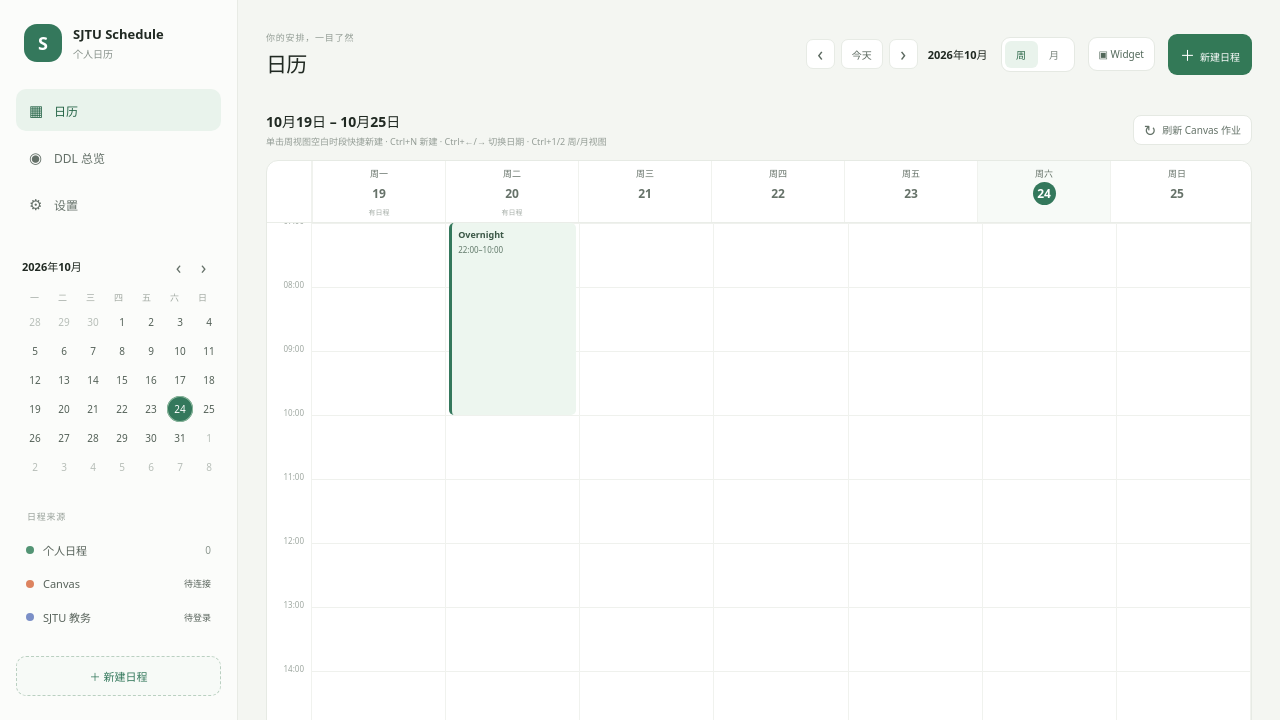
Test: calendar window › shows overnight events on both days in week and month views
This screenshot has width=1280, height=720.
Click the button "月": (1054, 54) [1038,40,1070,68]
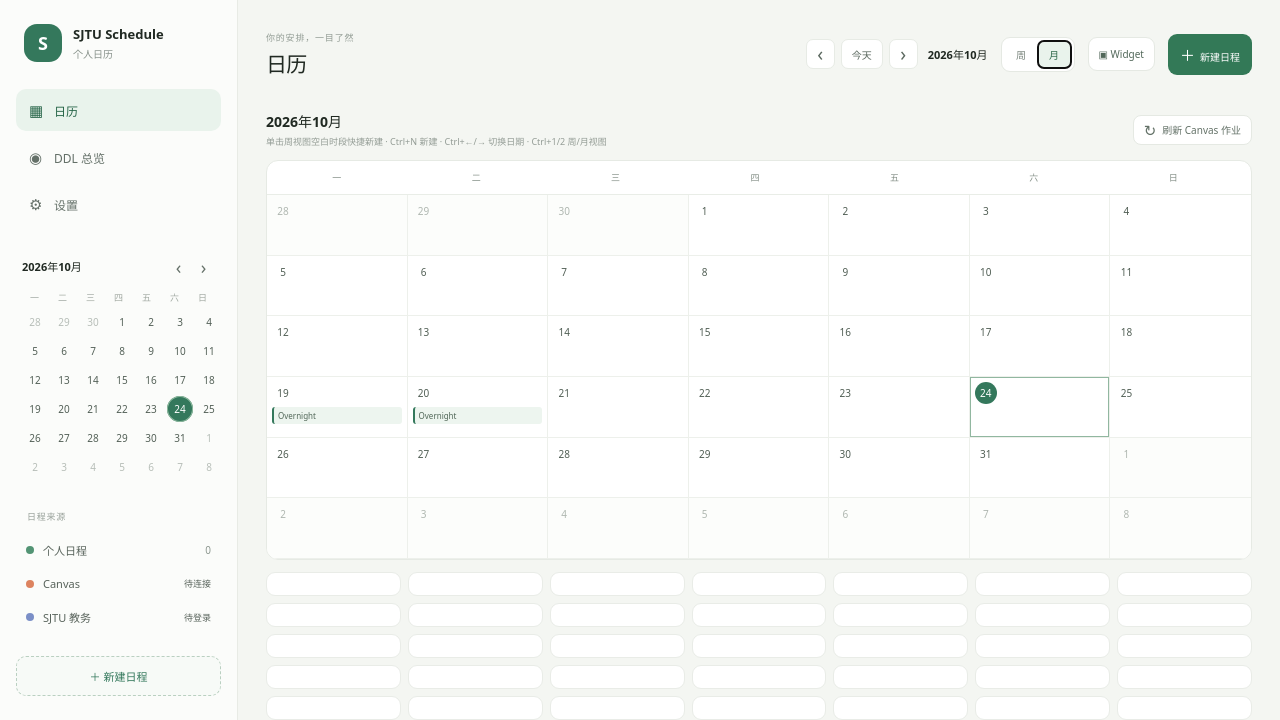
Result: the number of buttons with class "month-event" is 2 at [272,407,402,424]; [413,407,542,424]
